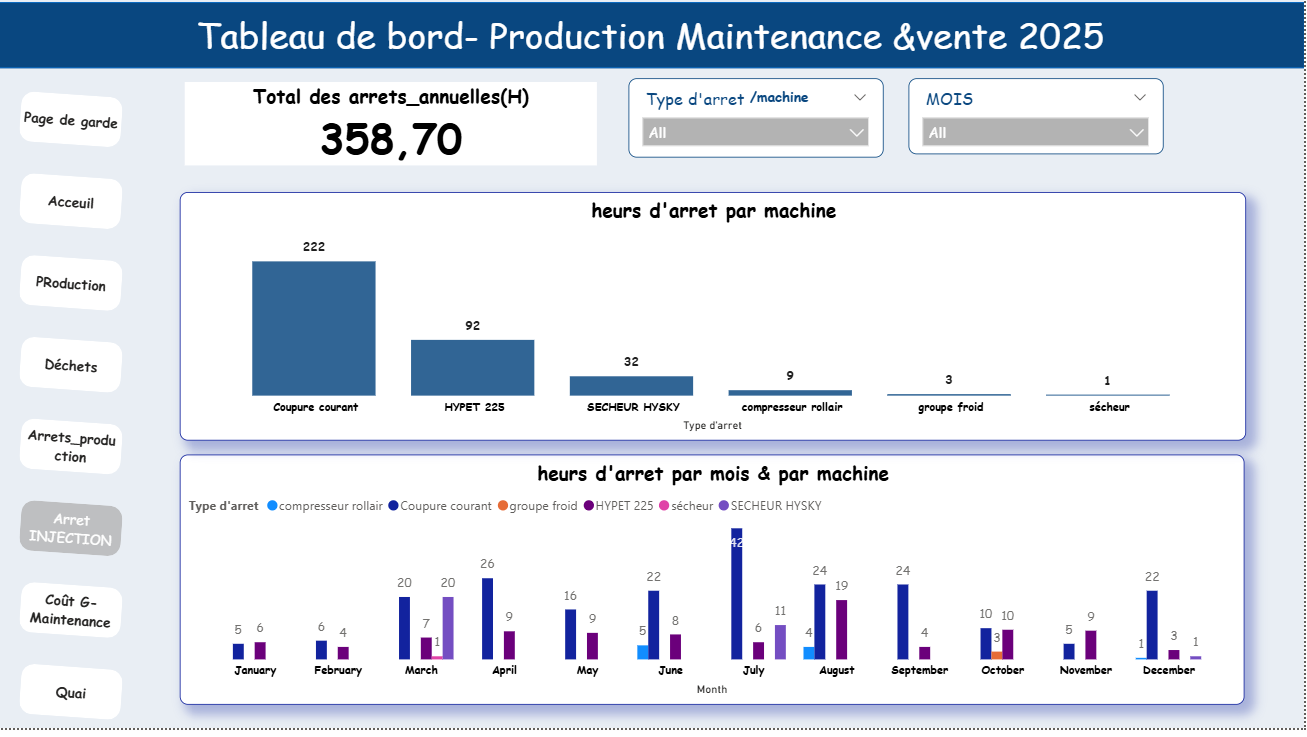

Layout of this report page (visuals, bound fields, positions):
{"tool":"powerbi","page":{"name":"Arret INJECTION","canvas":[1280,720],"ordinal":5},"visuals":[{"type":"clusteredColumnChart","title":" heurs d''arret par mois & par machine ","fields":{"Category":["S_K_25 - ligne d'injection.MOIS.Variation.Date Hierarchy.Month"],"Series":["S_K_25 - ligne d'injection.Type d'arret"],"Y":["Sum(S_K_25 - ligne d'injection.heurs)"]},"box":[180.2,451.9,1042,244.4],"z":0},{"type":"clusteredColumnChart","title":"heurs d''arret par machine","fields":{"Y":["Sum(S_K_25 - ligne d'injection.heurs)"],"Category":["S_K_25 - ligne d'injection.Type d'arret"]},"box":[180.2,195.1,1043.2,243.2],"z":1000},{"type":"slicer","fields":{"Values":["S_K_25 - ligne d'injection.MOIS"]},"box":[892.6,84,249.4,74.1],"z":2000},{"type":"slicer","fields":{"Values":["S_K_25 - ligne d'injection.Type d'arret"]},"box":[618.5,84,249.4,77.8],"z":3000},{"type":"card","title":"Total des arrets_annuelles(H)","fields":{"Values":["S_K_25 - ligne d'injection.Arret annuelles ligne d'injection"]},"box":[185,88.1,403.4,81.9],"z":4000},{"type":"pageNavigator","box":[9.9,96.3,127.2,622.2],"z":5000},{"type":"shape","box":[0,10,1280.3,64.8],"z":6000},{"type":"textbox","box":[732.5,88,114.9,33],"z":6001}]}

Visuals, with their boxes in screenshot pixels (x1, y1, x2, y2), scaled from the page's 1280x720 canvas onto the 1307x737 screenshot:
" heurs d''arret par mois & par machine " clusteredColumnChart: l=184, t=463, r=1248, b=713
"heurs d''arret par machine" clusteredColumnChart: l=184, t=200, r=1249, b=449
slicer - S_K_25 - ligne d'injection.MOIS: l=911, t=86, r=1166, b=162
slicer - S_K_25 - ligne d'injection.Type d'arret: l=632, t=86, r=886, b=166
"Total des arrets_annuelles(H)" card: l=189, t=90, r=601, b=174
pageNavigator: l=10, t=99, r=140, b=735
shape: l=0, t=10, r=1306, b=77
textbox: l=748, t=90, r=865, b=124
